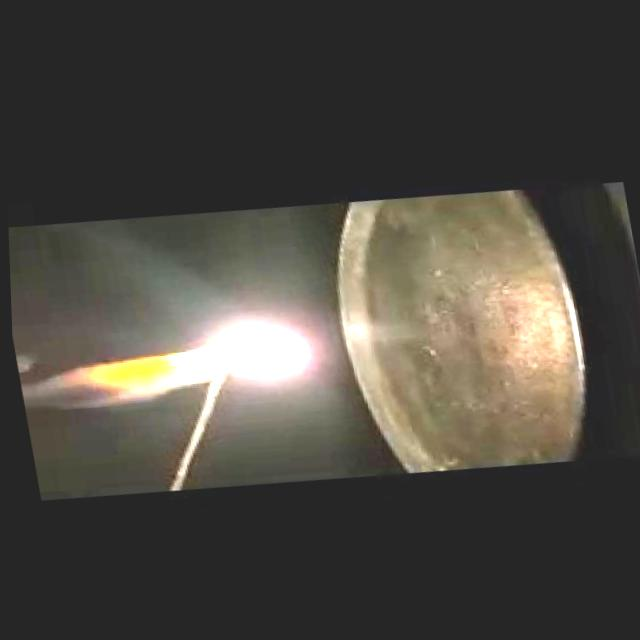Fire: (150, 312, 306, 400)
